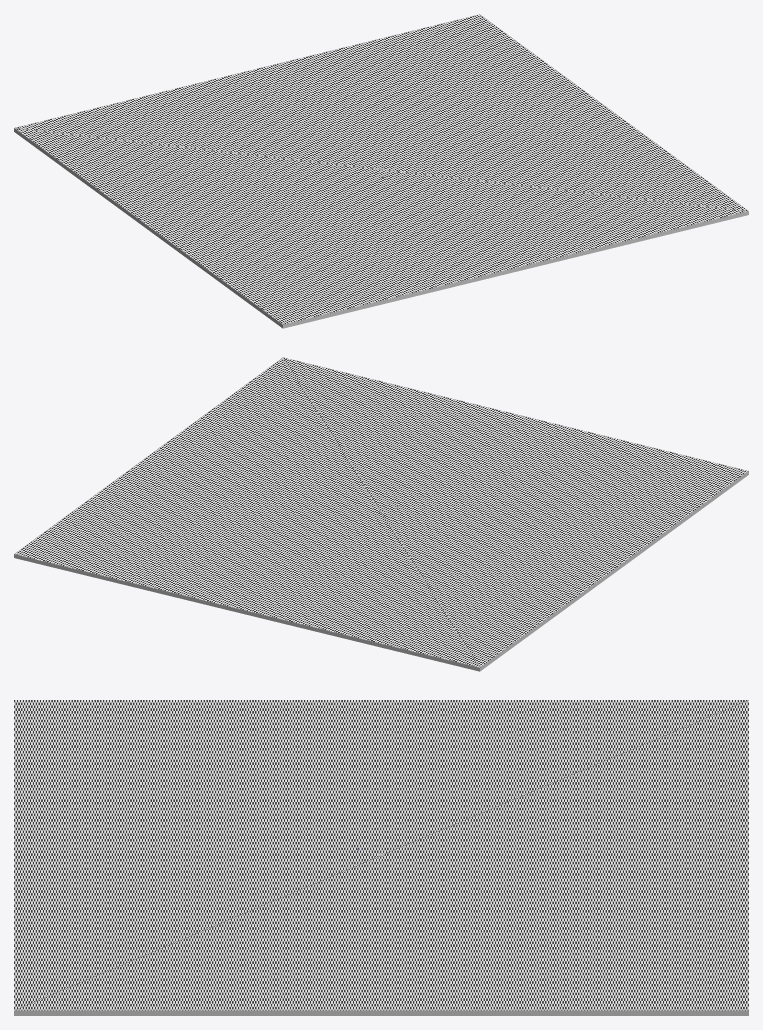
File: tripo_convert_5e829fc6-4339-44ed-b31d-6f25f7b4bf49.obj
3 views of the same model, one above another, from view 1: azimuth 30°, elevation 25°; view 2: azimuth 150°, elevation 25°; view 3: azimuth 270°, elevation 25° (orthographic). The views are drawn at different scales.
Parts seen in each view (by area): view 1: Baseplate2, Baseplate1; view 2: Baseplate2, Baseplate1; view 3: Baseplate2, Baseplate1.
Boxes of the visible parts, <box> form: Baseplate2: <box>14,14,748,324</box>; Baseplate1: <box>14,128,748,328</box>; Baseplate2: <box>14,357,748,667</box>; Baseplate1: <box>14,471,748,671</box>; Baseplate2: <box>14,700,748,1010</box>; Baseplate1: <box>14,1010,748,1015</box>.
Bounding box in the file's own units: 2048 × 22.41 × 2048.
Materials: 7 (6 with a texture image).
